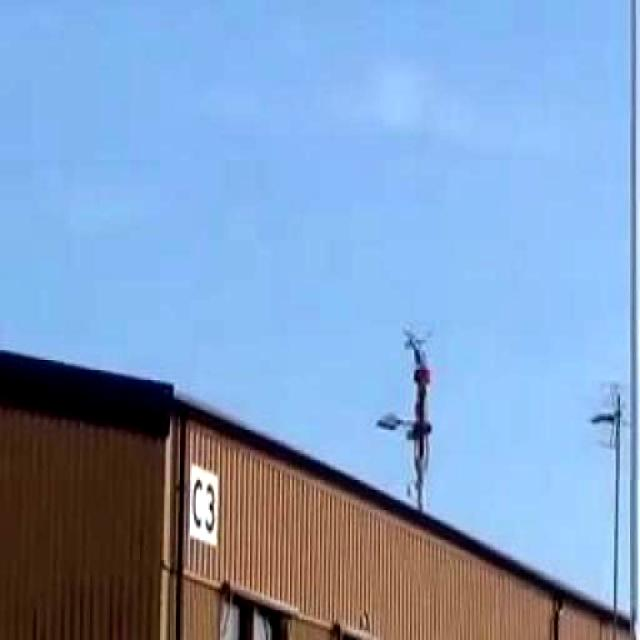drone: (396, 314, 448, 384)
